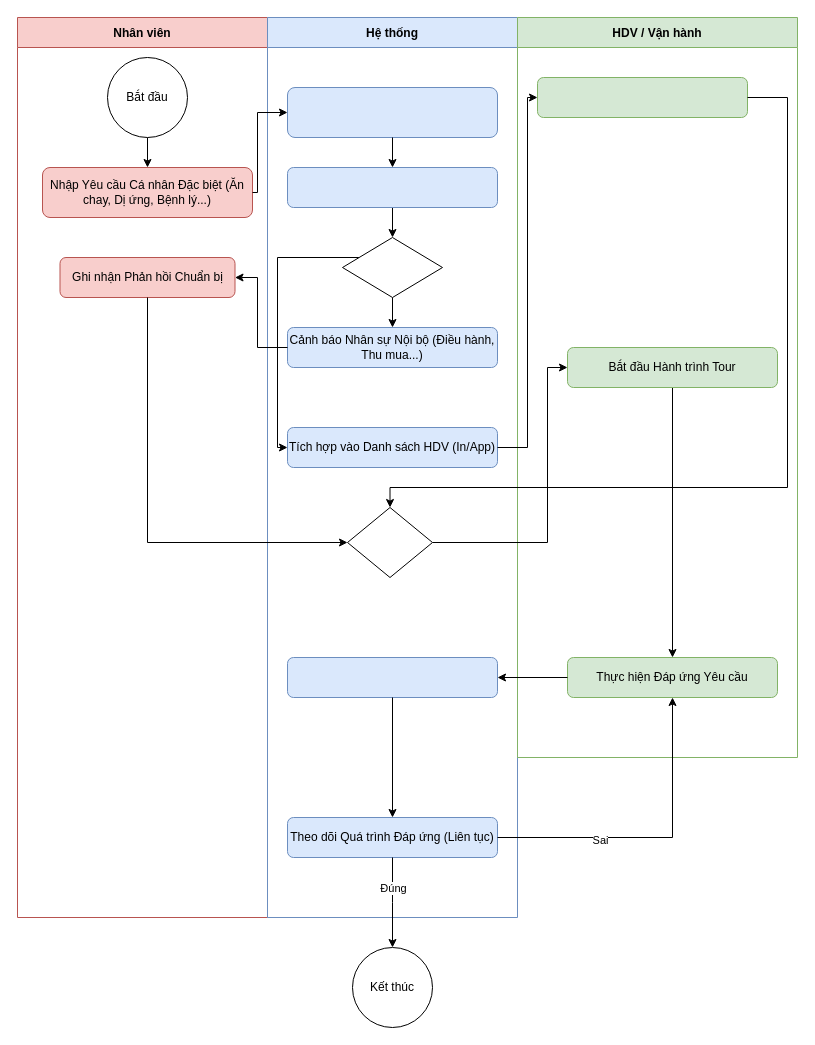
Image size: 815x1045. Some labels were removed from this diagram. The shapes that lost their labels are listed below. From the top down, each one's centre as x and y in pixels, then its label:
point (392, 112): Lưu trữ Yêu cầu & Gán cho Khách
point (642, 97): HDV/Vận hành Tiếp nhận Cảnh báo
point (392, 187): Kích hoạt Cảnh báo Tự động
point (392, 267): Gửi thông báo
point (389, 542): Phân nhán
point (392, 677): Cập nhật Trạng thái Đáp ứng
